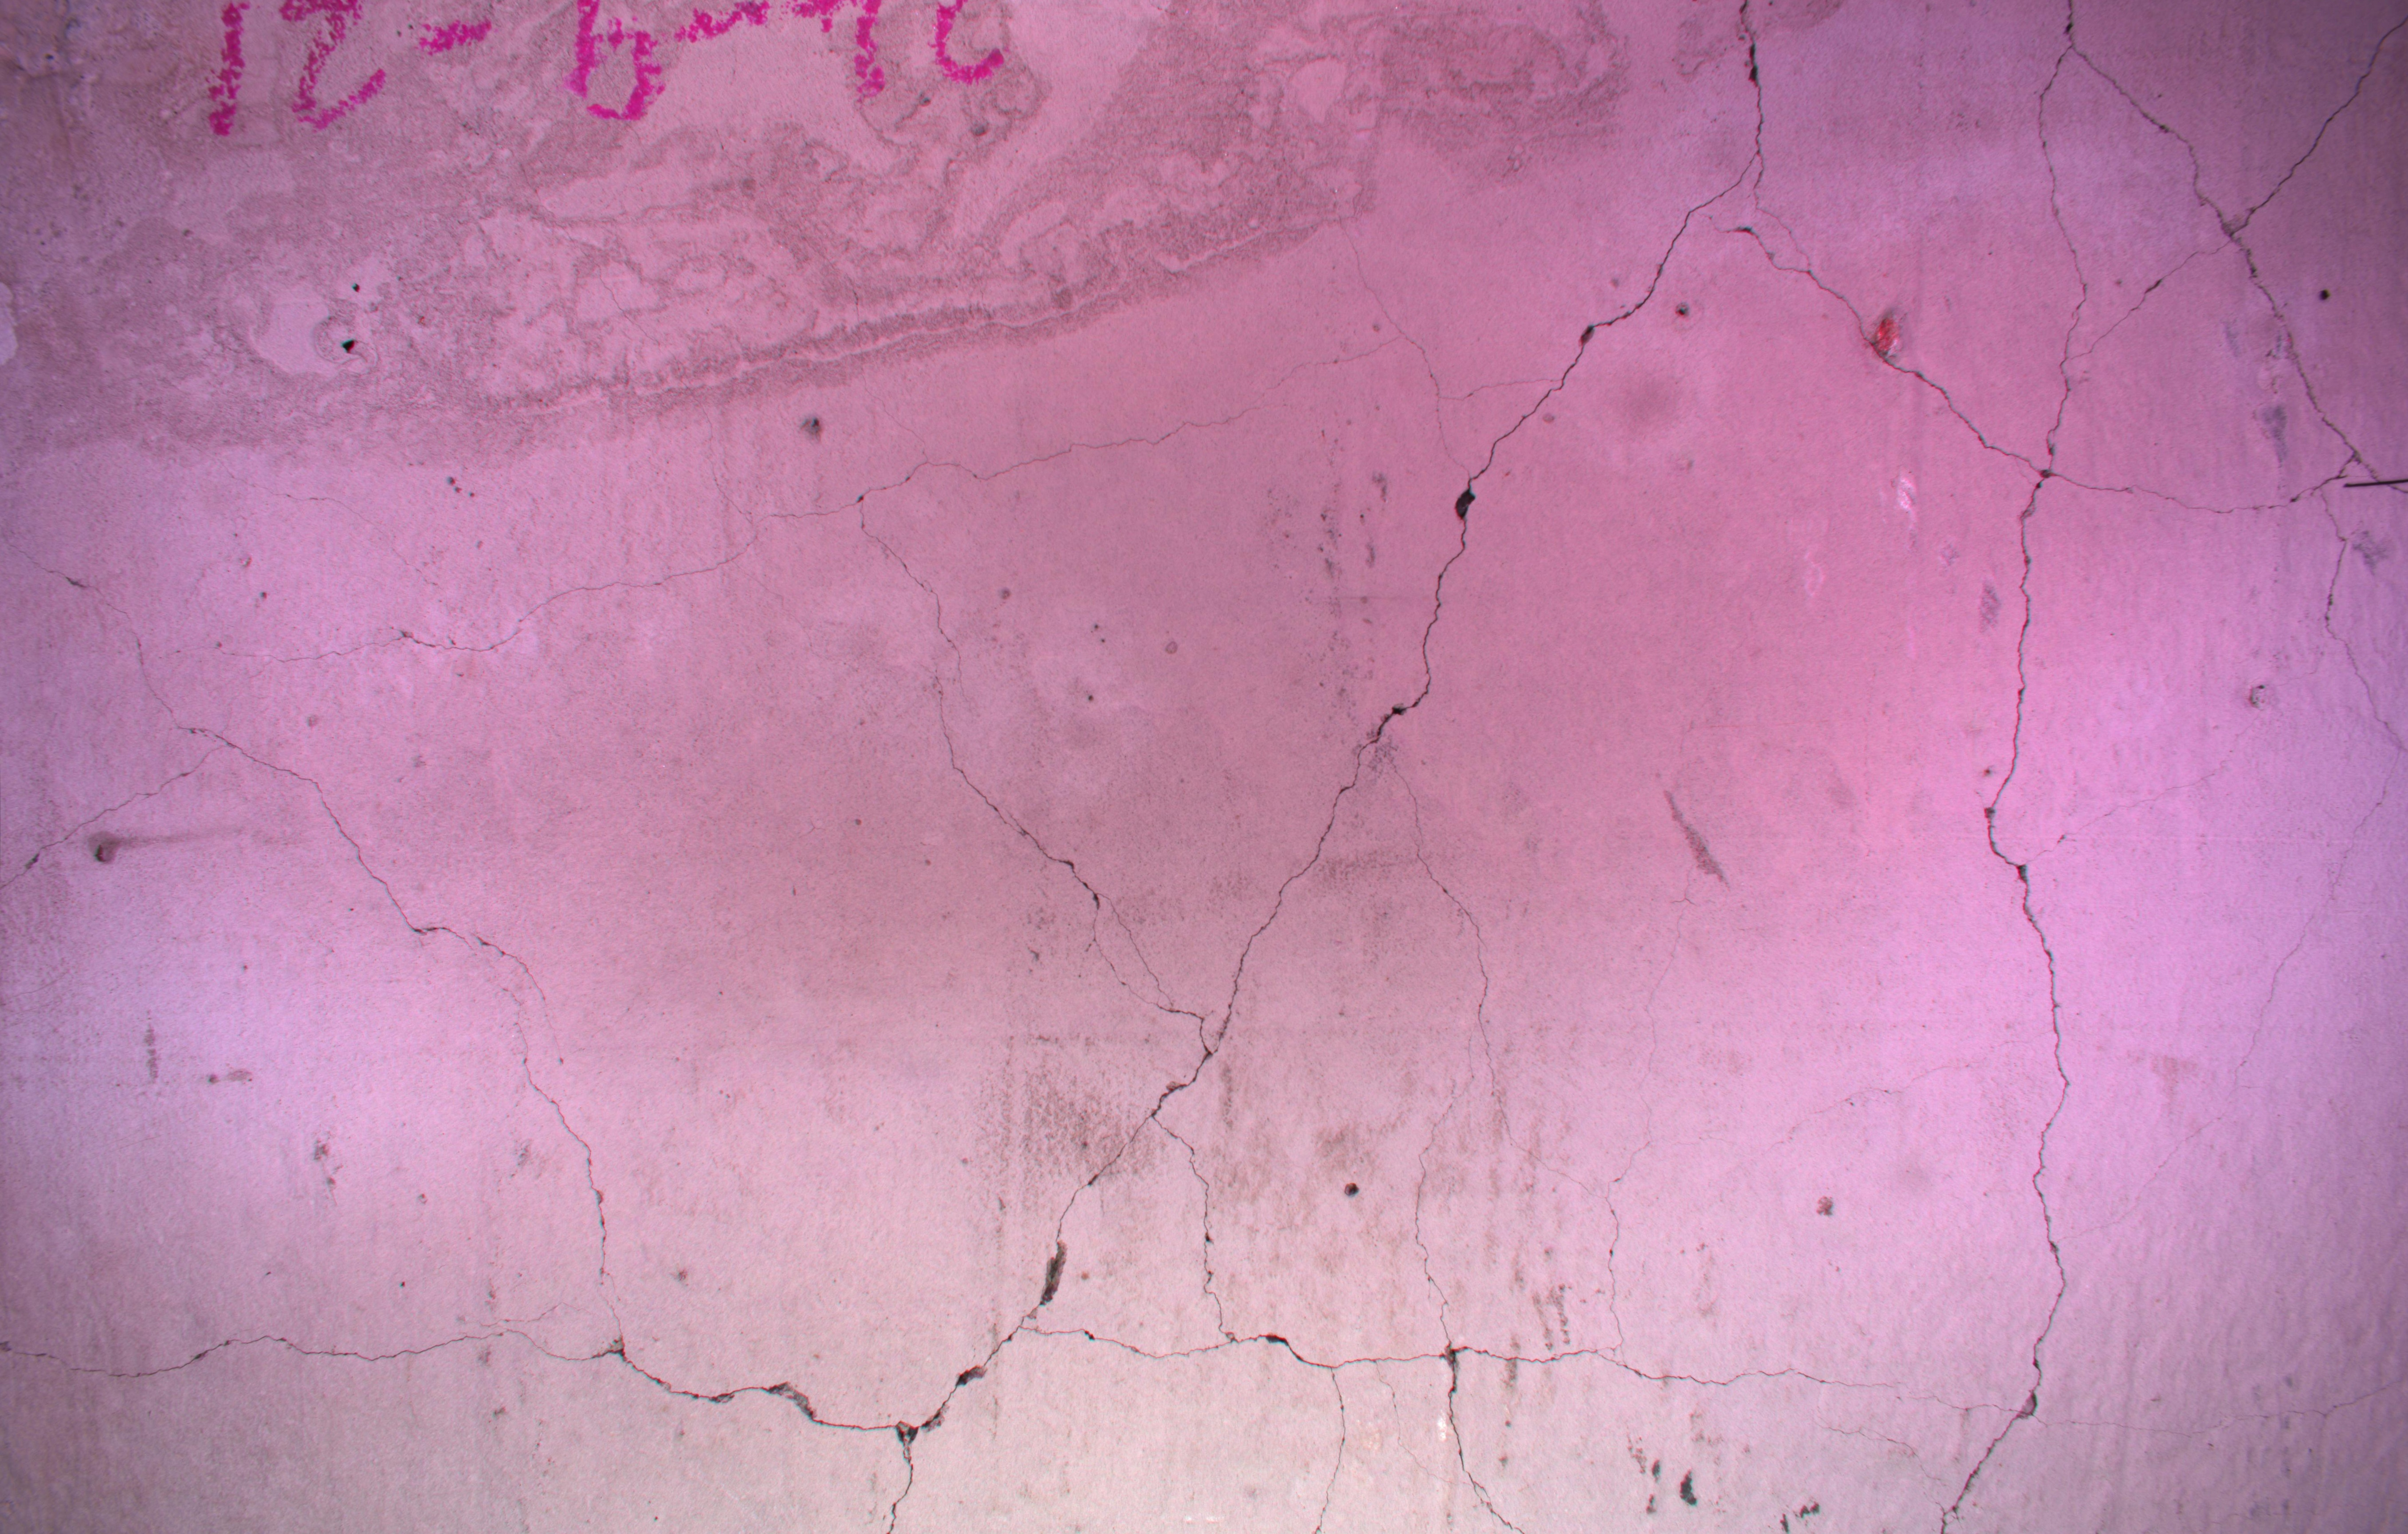Crack: (202, 709, 630, 1358), (1330, 133, 1764, 771), (839, 491, 1215, 1064), (1910, 448, 2094, 1534), (739, 253, 1451, 518), (212, 484, 871, 693), (1720, 181, 2075, 497), (1358, 744, 1508, 1350), (2197, 735, 2408, 1157), (999, 1029, 1248, 1364), (1195, 711, 1394, 1086), (1216, 1316, 1557, 1534), (2211, 207, 2408, 500), (2, 530, 247, 760), (1569, 1327, 2060, 1436), (1581, 918, 1681, 1388), (2060, 0, 2243, 249), (2229, 0, 2408, 251), (0, 1313, 635, 1381), (595, 1323, 921, 1452), (2006, 1358, 2408, 1462), (0, 734, 247, 899), (2287, 448, 2408, 781), (2052, 418, 2408, 527), (2022, 0, 2097, 504), (1690, 0, 1799, 232), (881, 1315, 1034, 1450), (1441, 1316, 1611, 1374), (872, 1404, 941, 1534)
